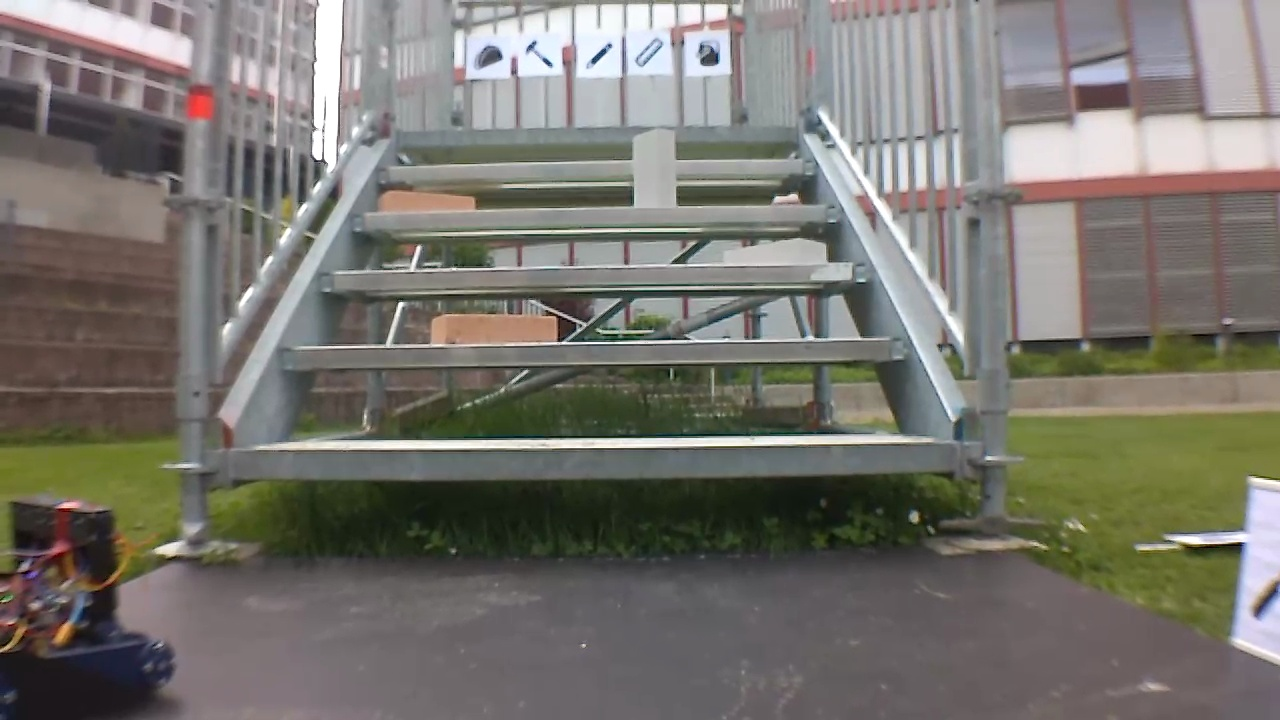brick: (430, 313, 557, 342), (632, 128, 675, 207), (377, 191, 474, 210)
bucket: (692, 37, 725, 69)
edge: (230, 442, 957, 477), (281, 338, 907, 365), (317, 261, 874, 287), (348, 205, 846, 228), (377, 159, 818, 180), (399, 125, 802, 142)
hammer: (519, 37, 555, 70)
pencil: (579, 35, 613, 74)
ruler: (633, 35, 667, 70)
stairs: (159, 3, 1034, 551)
steps: (222, 122, 965, 485)
taco: (470, 41, 507, 74)
